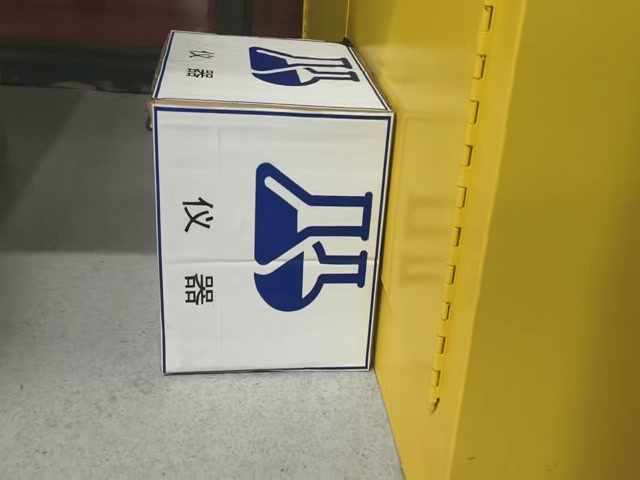Cube_ins: (148, 26, 393, 124)
